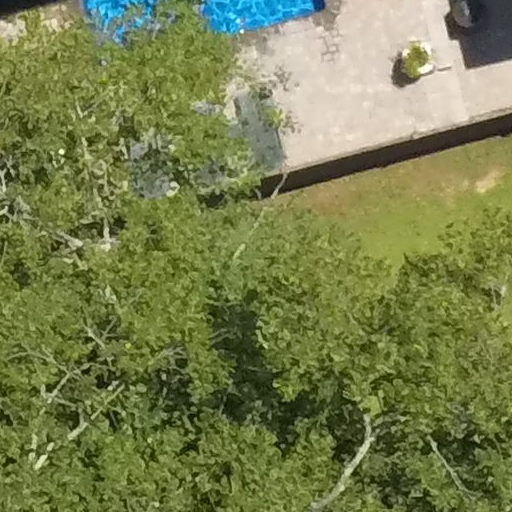flower pot: (393, 38, 442, 81)
pool: (80, 1, 337, 53)
